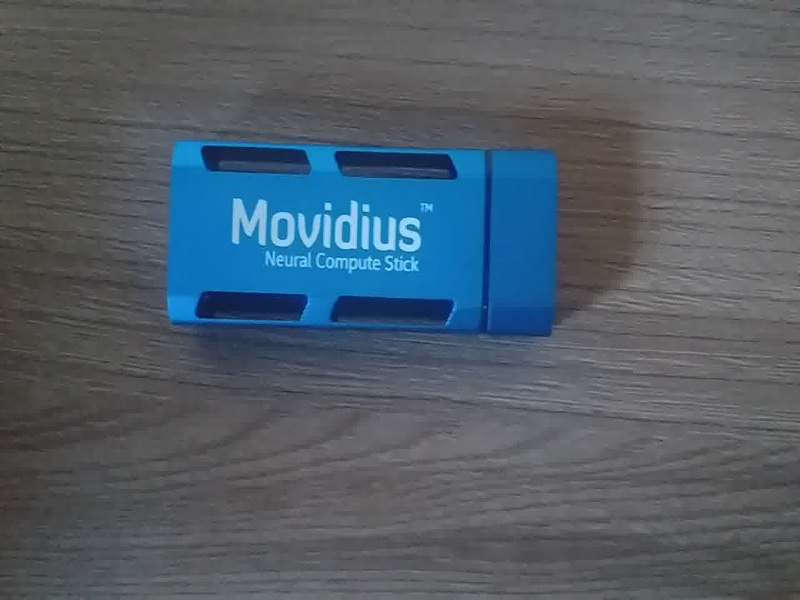movidius: (162, 121, 582, 350)
